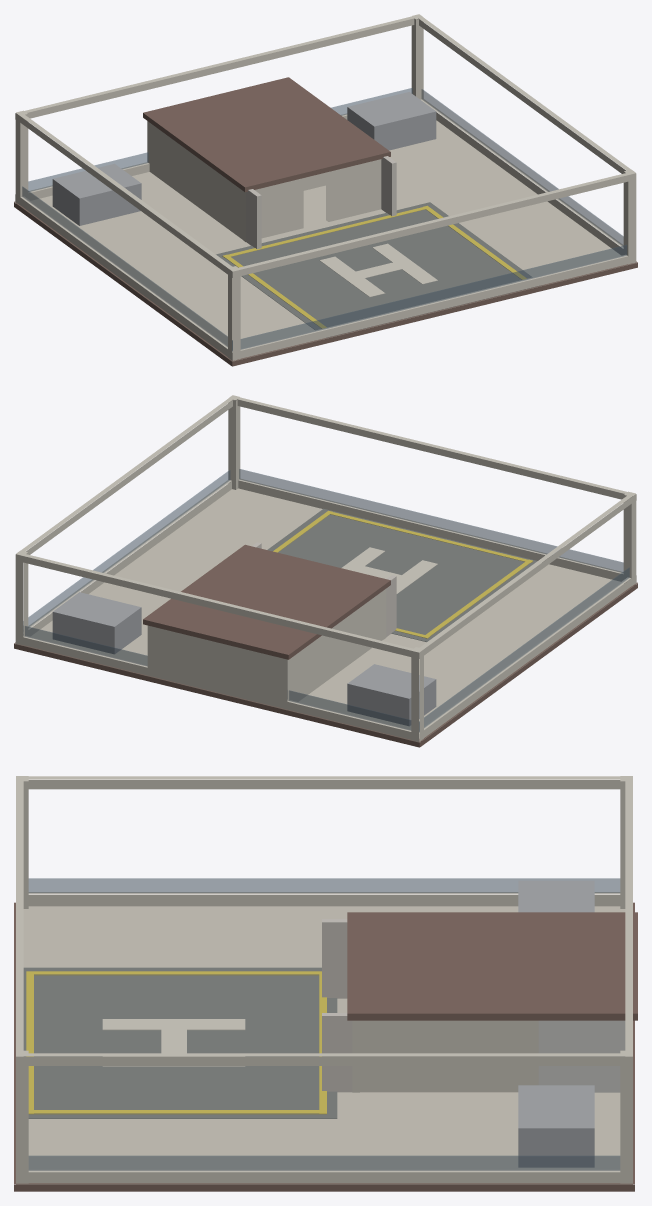
File: brick-roof-a.reveal-v1.lod0.glb
3 renders of one model, top to bottom at view 1: azimuth 30°, elevation 25°; view 2: azimuth 150°, elevation 25°; view 3: azimuth 270°, elevation 25°, orthographic. The views are drawn at different scales.
Visible parts, largest first — view 1: brick-roof-a; view 2: brick-roof-a; view 3: brick-roof-a.
Boxes of the visible parts, x1,y1,x2,y2 form: brick-roof-a: (14, 14, 637, 366); brick-roof-a: (14, 395, 637, 747); brick-roof-a: (14, 776, 637, 1191).
Size of the model in its own units: 26.16 by 5.84 by 24.48.
